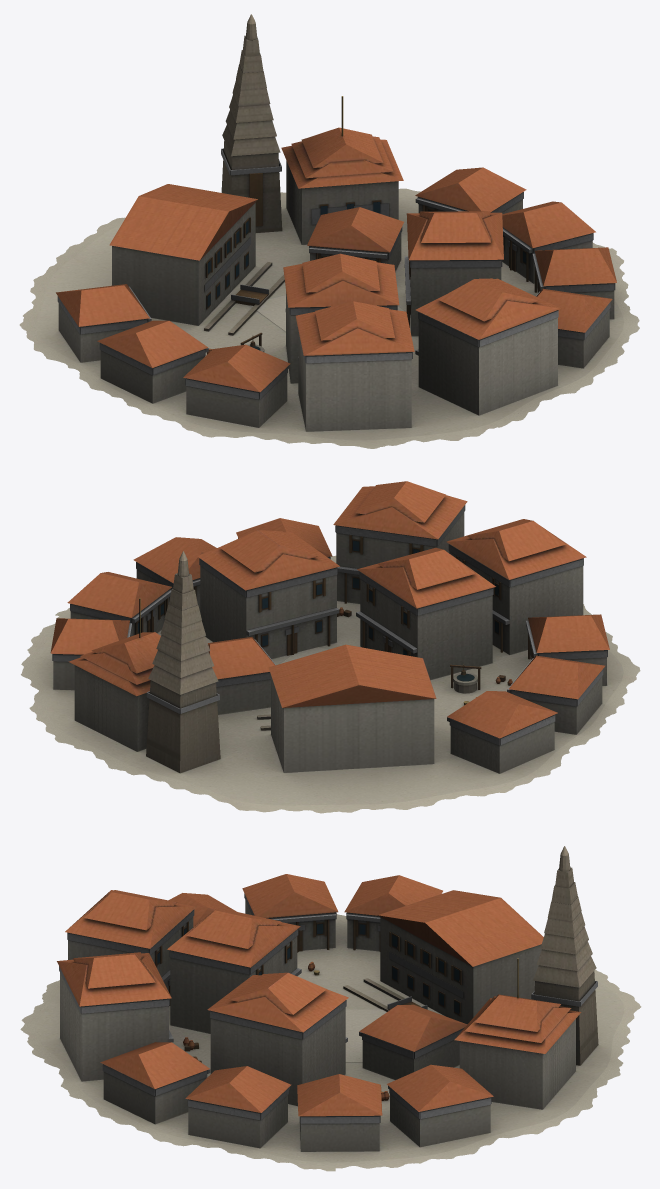
The model's file is gunpowder-town-medium-b-monsoon.glb.
3 renders of one model, top to bottom at view 1: azimuth 30°, elevation 25°; view 2: azimuth 150°, elevation 25°; view 3: azimuth 270°, elevation 25°, orthographic.
Visible parts, largest first — view 1: LOD0; view 2: LOD0; view 3: LOD0.
Part boxes in pixels (x1,y1,x2,y2): LOD0: (19,14,639,448); LOD0: (21,481,640,813); LOD0: (20,846,641,1171).
Size of what is drawn, in the model's own units: 5.96 by 2.19 by 6.02.
3 materials, 3 textured.
